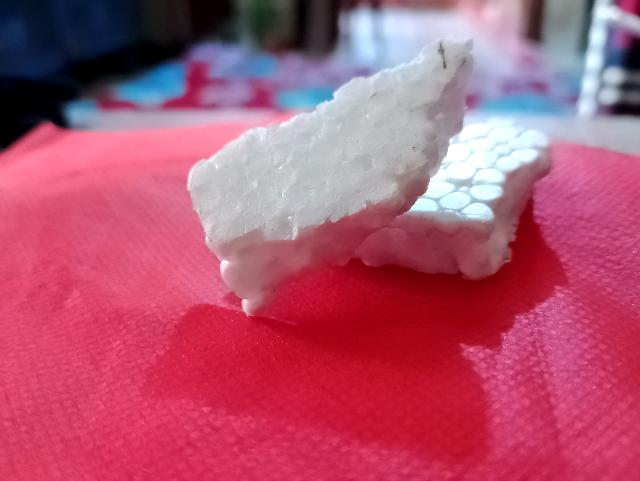cocksheet: (199, 59, 462, 249), (414, 114, 556, 263)
